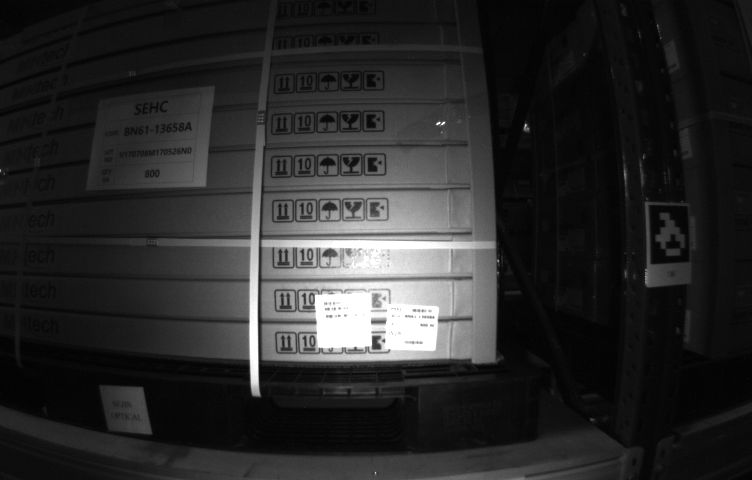True Barcode: (387, 303, 439, 350)
